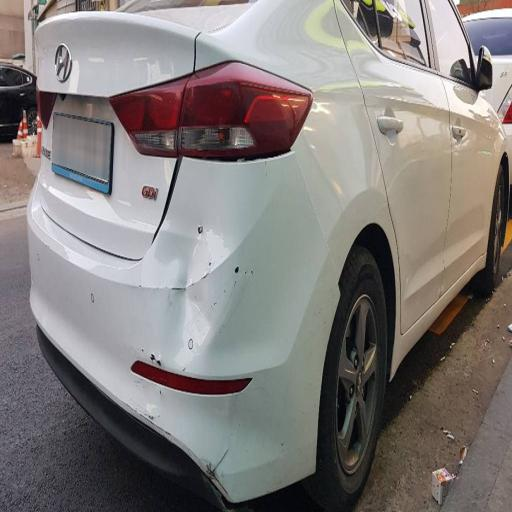dent: (36, 18, 183, 244), (140, 170, 251, 397)
scratch: (168, 423, 246, 512)
